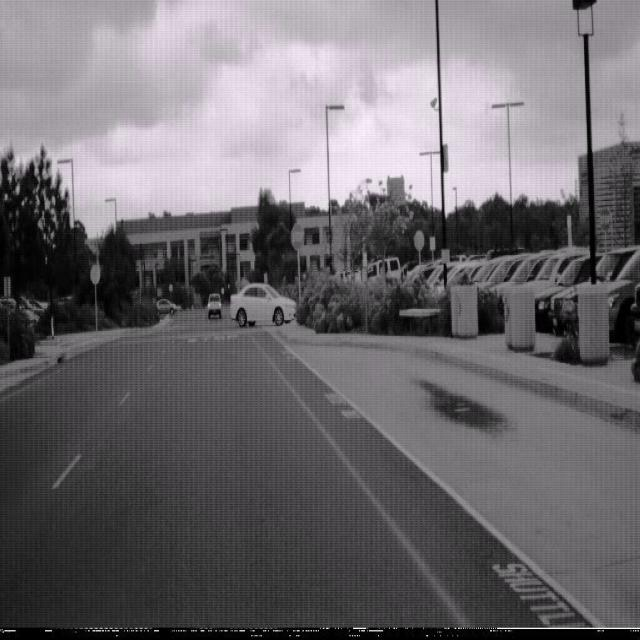stop_sign: (290, 221, 305, 251)
